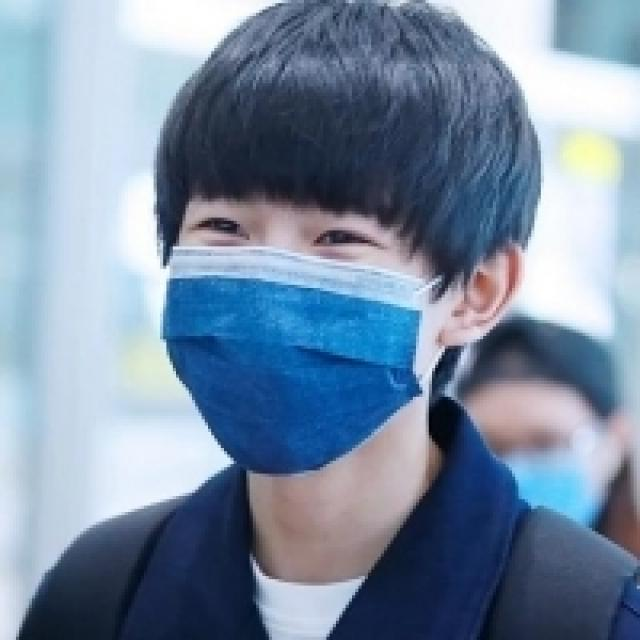mask: (174, 133, 433, 443), (452, 386, 598, 555)
